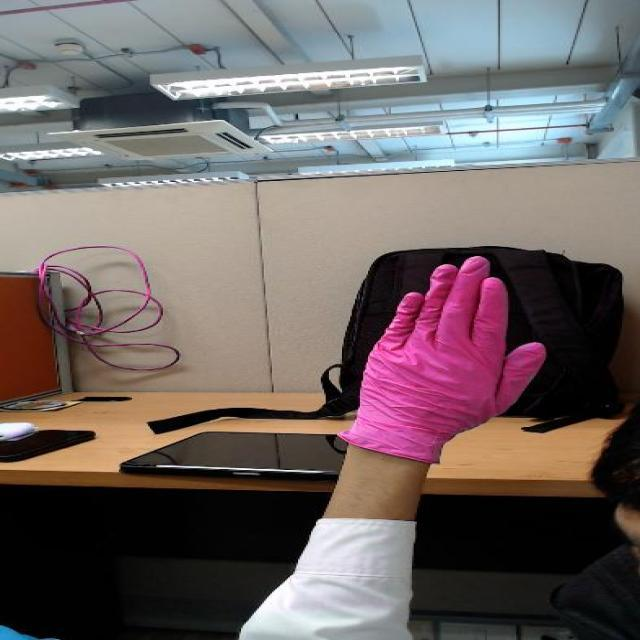gloved_hand: (322, 249, 580, 415)
